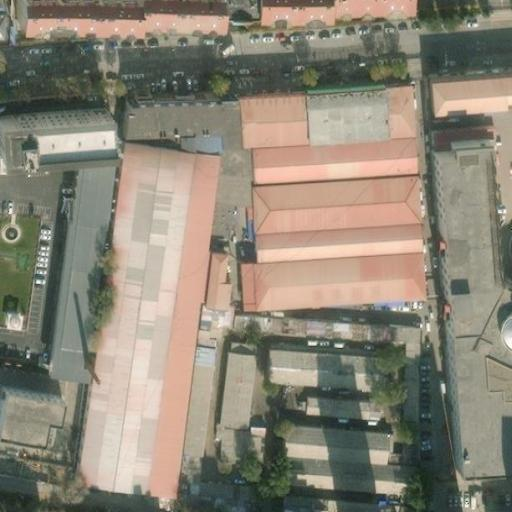building: (69, 138, 211, 495), (431, 147, 511, 474), (40, 163, 112, 377), (233, 242, 417, 305), (243, 167, 411, 225), (165, 300, 217, 487), (222, 73, 394, 129), (240, 130, 408, 178), (246, 214, 413, 254), (257, 341, 393, 387), (115, 84, 225, 136), (279, 439, 397, 480), (0, 105, 95, 152), (422, 67, 512, 111), (281, 417, 382, 445), (274, 485, 399, 507), (209, 340, 243, 420), (0, 452, 56, 491), (191, 243, 225, 304), (298, 388, 375, 414), (215, 421, 265, 461), (426, 118, 497, 144), (399, 356, 417, 419), (272, 499, 308, 512)
